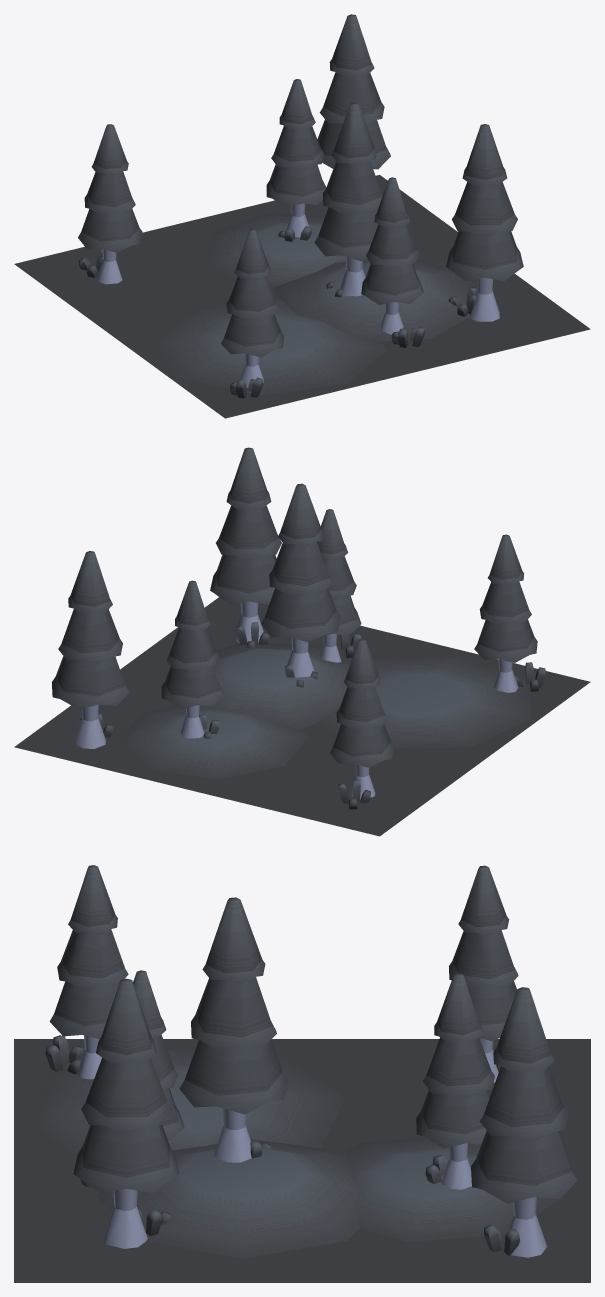
File: forest_trees.glb
The picture shows the model from 3 angles, top to bottom: view 1: azimuth 30°, elevation 25°; view 2: azimuth 150°, elevation 25°; view 3: azimuth 270°, elevation 25°; orthographic projection. The views are drawn at different scales.
Parts seen in each view (by area): view 1: decoration-forest; view 2: decoration-forest; view 3: decoration-forest.
Boxes of the visible parts, x1,y1,x2,y2 form: decoration-forest: (14, 14, 590, 418); decoration-forest: (14, 447, 590, 836); decoration-forest: (14, 865, 590, 1282).
Size of the model in its own units: 10 by 5.33 by 10.
1 material, 1 textured.
